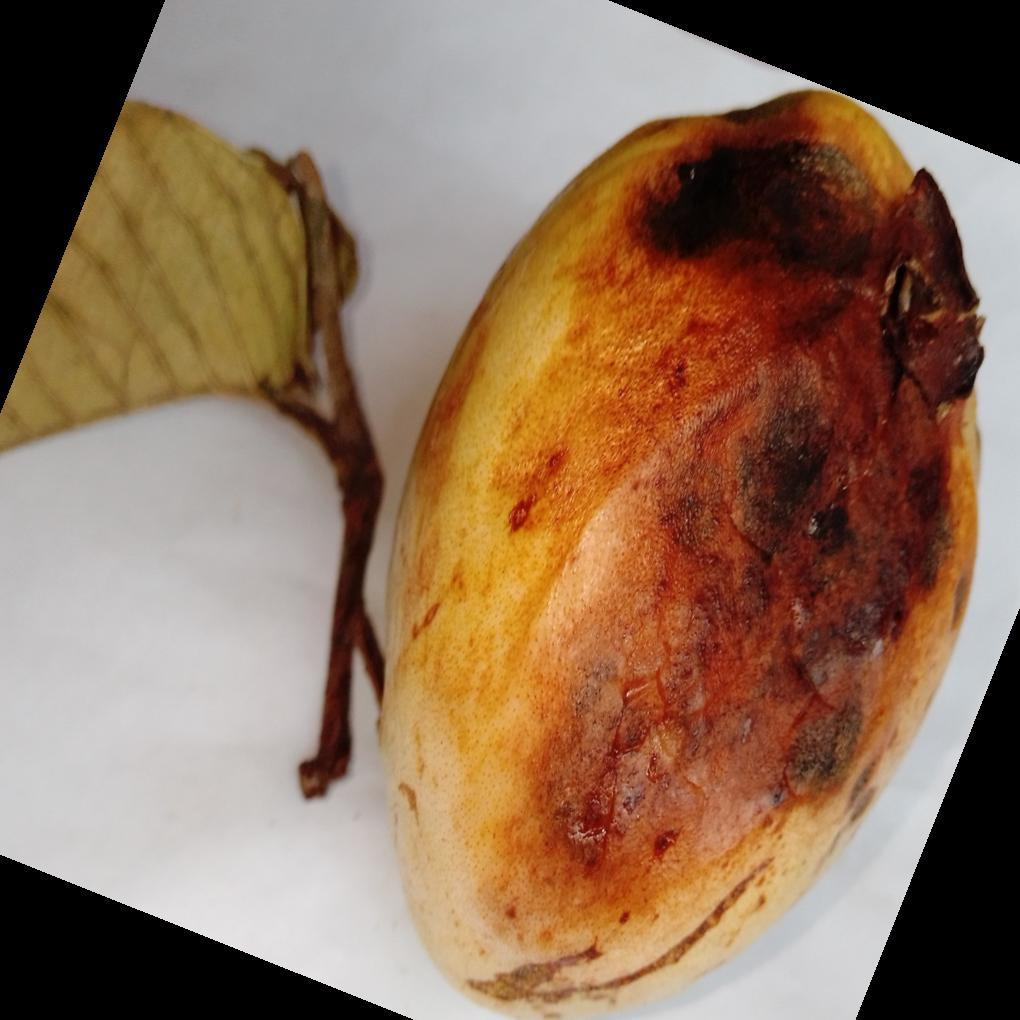FreshOrange: (0, 91, 986, 1020), (377, 91, 986, 1020)
